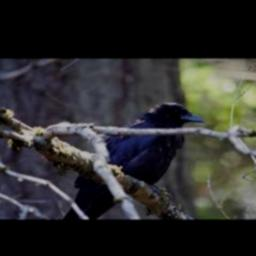Crow: (62, 102, 204, 220)
